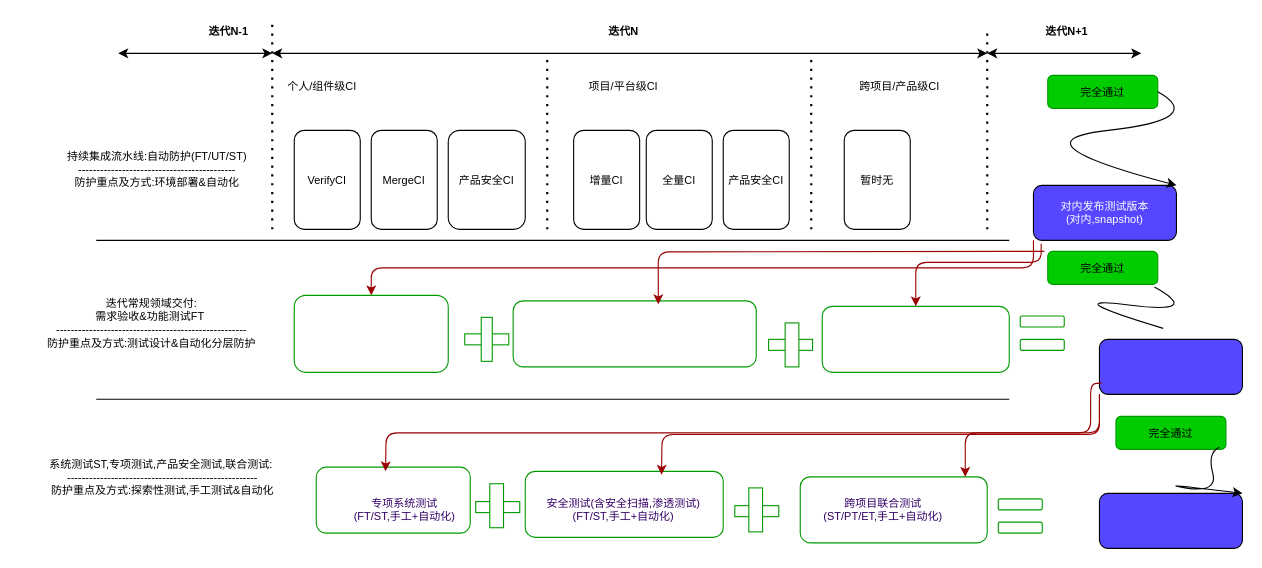
Some shapes in this 1262 by 568 pixel diagram are drawn without their labels. Here are the shapes that lost their labels. From the top down, the box of each, then its label:
(293, 294, 448, 372): 需求验收 (FT/ST,手工+自动化)
(512, 300, 756, 367): 每天DOD功能回归(含功能,性能,可靠性) (FT/ST,手工+自动化)
(821, 305, 1009, 372): 每两周全量功能回归 (FT/ST,手工+自动化)
(1098, 338, 1242, 394): 对产品发联调版本 (每迭代,alpha)
(1098, 492, 1242, 548): 对产品发商用版本 (每季度,release)
